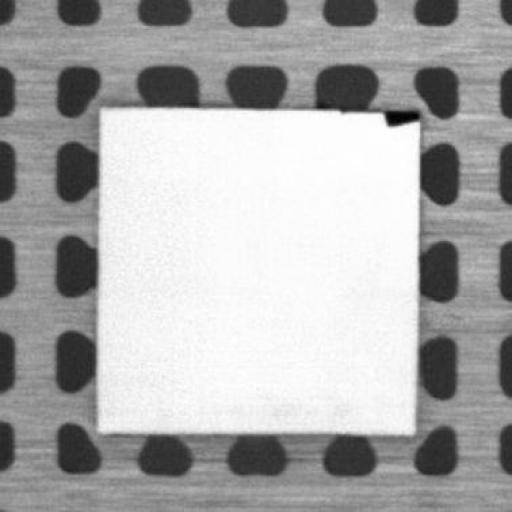DIE_BROKEN: (380, 104, 422, 127)
